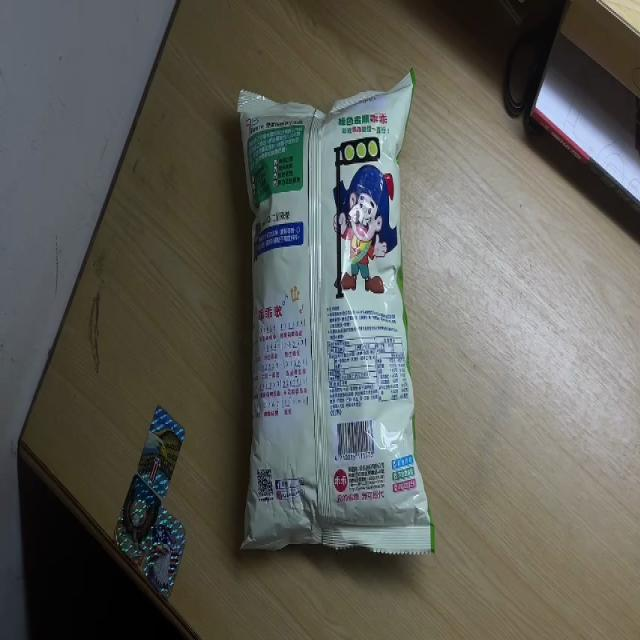Good-Luck: (234, 67, 435, 559)
